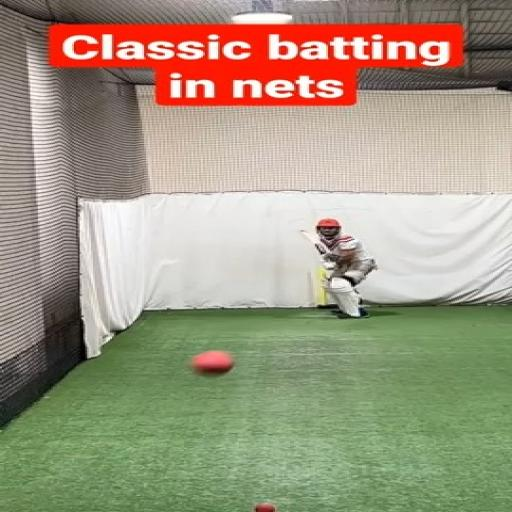Cricket bat: (300, 230, 328, 260)
